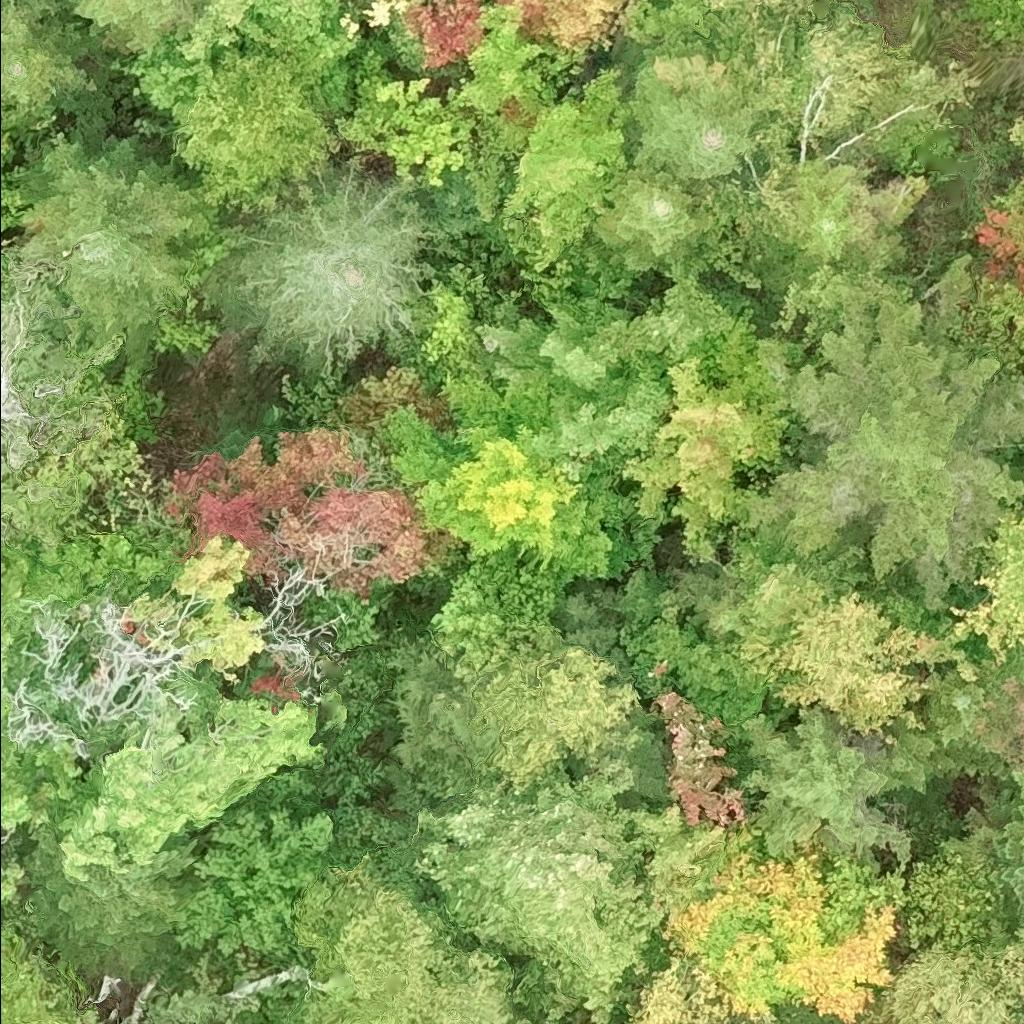crown: (0, 526, 330, 888), (740, 252, 1023, 613), (412, 769, 672, 1023), (207, 157, 460, 372), (19, 125, 250, 357), (173, 412, 433, 599), (661, 833, 903, 1023), (289, 850, 547, 1023), (383, 403, 616, 580), (620, 353, 798, 563), (750, 4, 905, 215), (7, 596, 205, 753), (735, 589, 929, 745), (592, 565, 769, 729), (172, 42, 339, 210), (500, 60, 630, 274), (744, 703, 914, 865), (471, 630, 641, 787), (22, 829, 196, 982), (173, 802, 337, 958), (746, 154, 927, 295), (537, 277, 739, 396), (621, 35, 764, 185), (440, 0, 590, 125), (532, 361, 671, 484), (426, 555, 573, 670), (648, 689, 768, 828), (382, 635, 501, 774), (335, 75, 474, 188), (709, 0, 839, 116), (166, 534, 266, 684), (855, 936, 1023, 1023), (380, 262, 491, 393), (0, 3, 105, 129), (591, 167, 713, 274), (944, 502, 1023, 663), (771, 258, 925, 338), (183, 0, 341, 66), (111, 31, 217, 128), (920, 665, 1010, 778), (631, 798, 728, 900), (0, 931, 106, 1023), (621, 946, 747, 1023), (260, 558, 341, 675), (819, 845, 913, 943), (476, 312, 564, 400), (65, 0, 201, 51), (497, 0, 631, 51), (399, 0, 484, 72), (887, 719, 955, 797), (627, 0, 720, 54), (976, 678, 1023, 769), (991, 111, 1023, 214), (648, 51, 733, 88), (0, 119, 28, 231), (989, 833, 1023, 925), (985, 768, 1023, 846), (978, 0, 1023, 46), (0, 0, 68, 21), (0, 861, 29, 907), (962, 0, 1003, 19), (1012, 924, 1023, 952), (610, 1018, 624, 1023), (743, 1019, 748, 1023), (775, 1022, 789, 1023)
